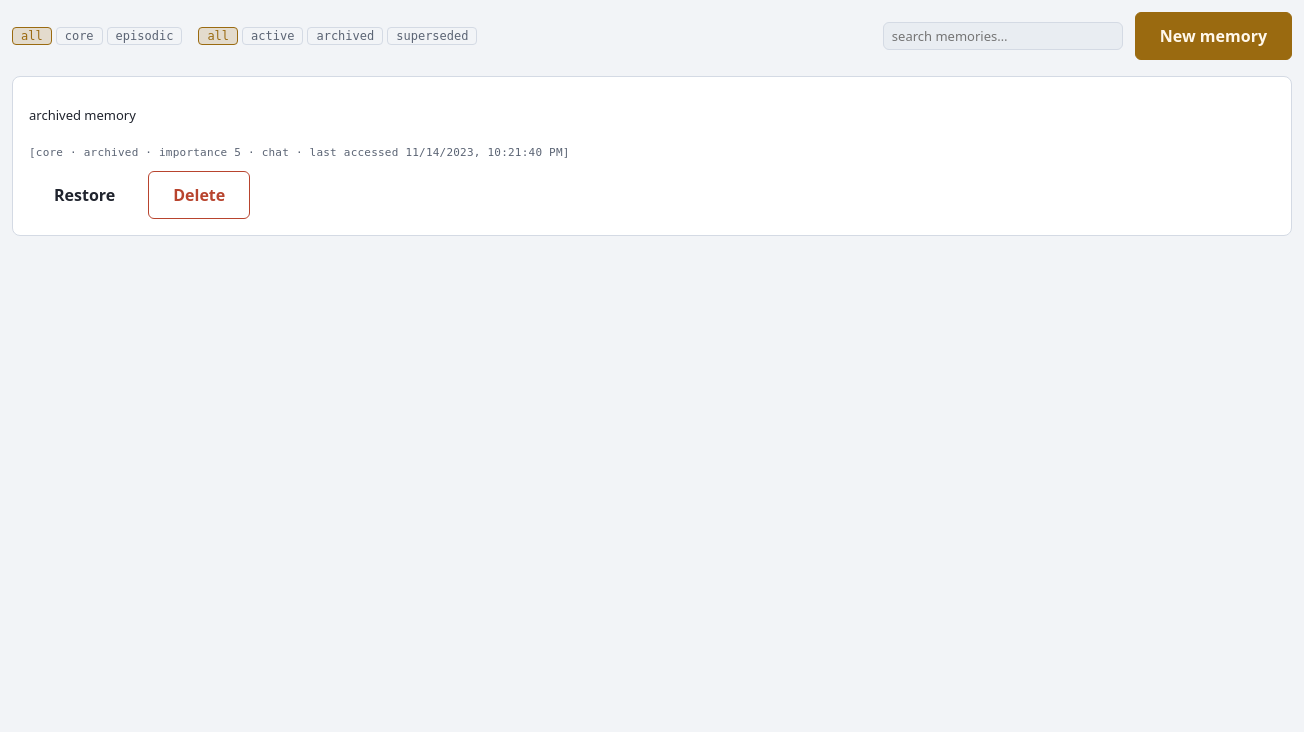
restore refusal from the server surfaces as a toast and the list is refetched
The width and height of the screenshot is (1304, 732).
Expected: the text "archived memory" is shown, [29,106,136,124]
What coordinates should you click on to do the following:
click the button "Restore"
I would click on:
 (85, 195)
Its box is [29,171,140,219].
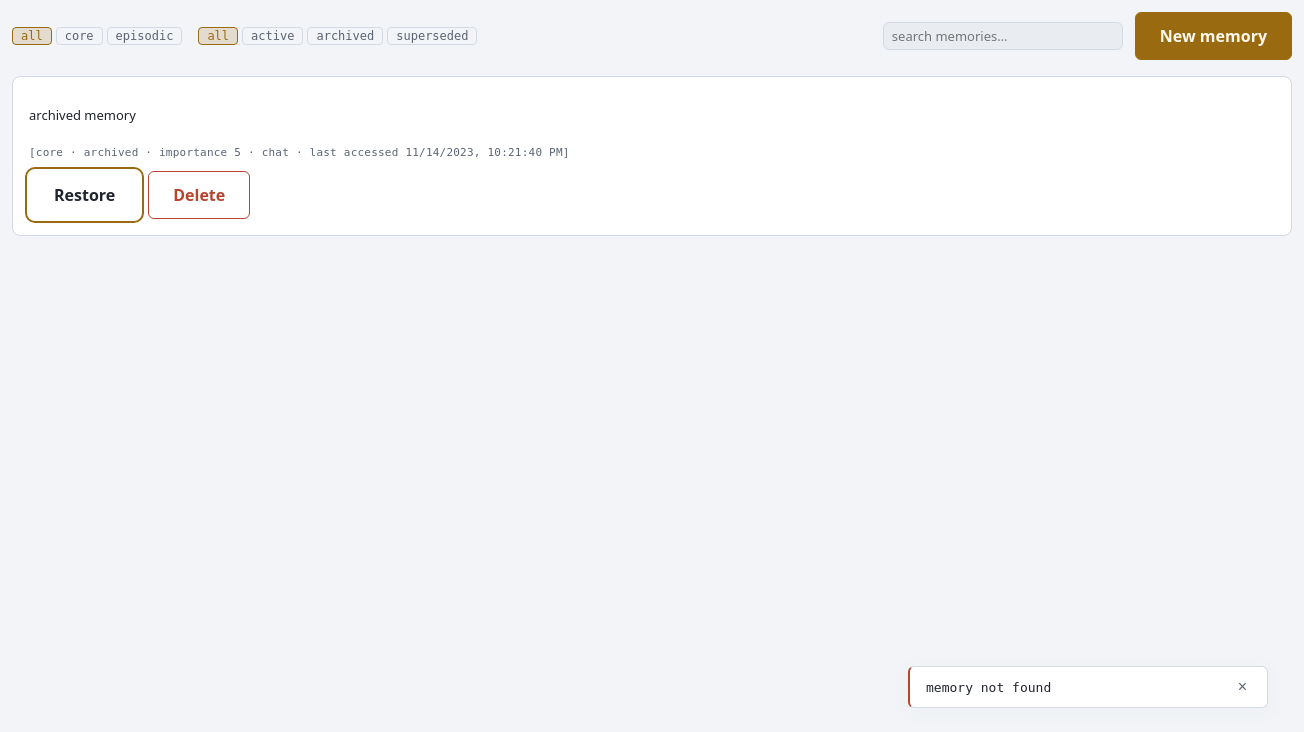
Expected: the text "memory not found" is shown, [926,680,1051,694]
